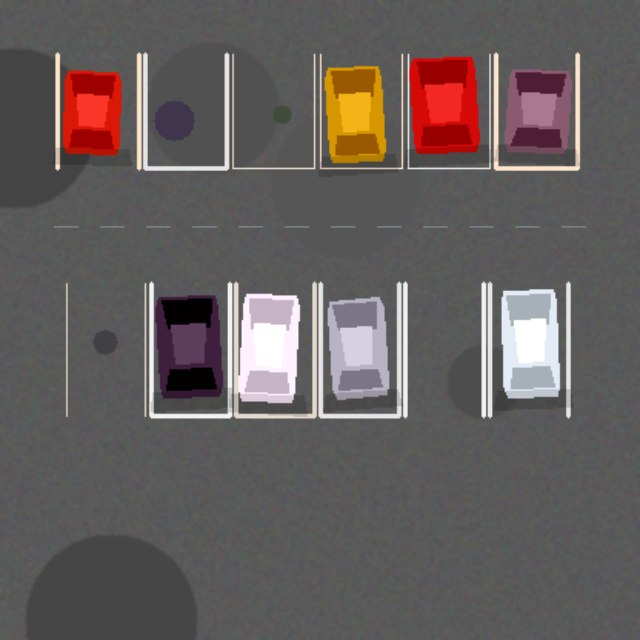space-empty: (66, 283, 145, 415), (405, 283, 483, 415), (232, 54, 314, 168), (145, 54, 226, 168)
space-occupied: (235, 283, 314, 415), (489, 283, 568, 415), (151, 283, 229, 415), (320, 283, 398, 415), (320, 54, 402, 168), (495, 54, 577, 168), (57, 54, 138, 168), (408, 54, 489, 168)
